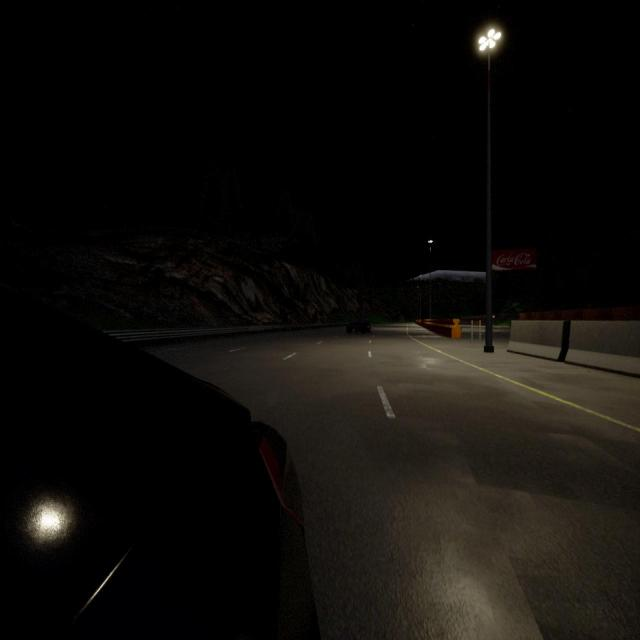Vehicle: (0, 297, 318, 640), (346, 319, 371, 336)
